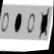correct: (13, 12, 23, 34)
not correct: (37, 5, 51, 41)
